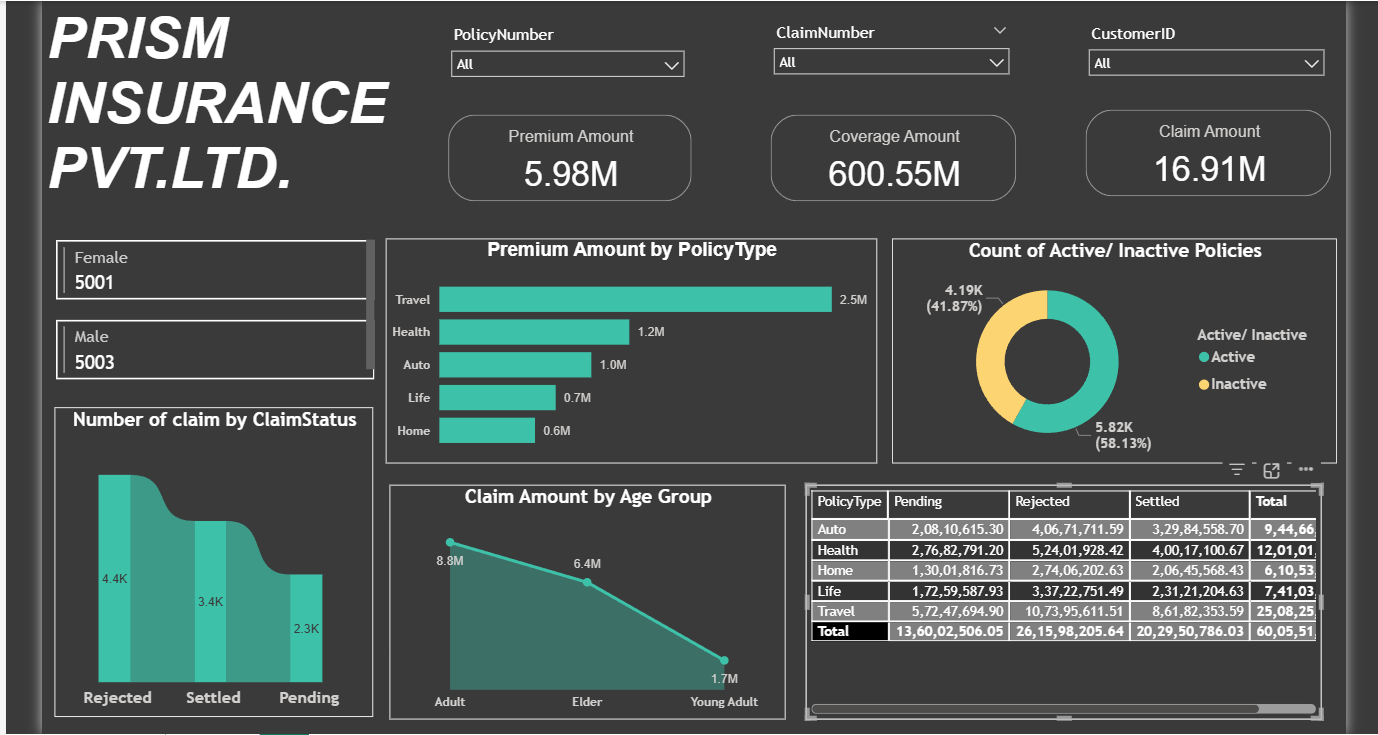

The page's visual inventory and layout, read from the dashboard file:
{"tool":"powerbi","page":{"name":"Page 1","canvas":[1280,720],"ordinal":0},"visuals":[{"type":"slicer","fields":{"Values":["InsuranceData.PolicyNumber"]},"box":[391.4,18.4,249.1,101.8],"z":0},{"type":"slicer","fields":{"Values":["InsuranceData.ClaimNumber"]},"box":[708,16,251.5,103.1],"z":1000},{"type":"slicer","fields":{"Values":["InsuranceData.CustomerID"]},"box":[1017.2,17.2,251.5,103.1],"z":2000},{"type":"textbox","box":[0,0,364.4,272.4],"z":3000},{"type":"cardVisual","fields":{"Data":["Sum(InsuranceData.PremiumAmount)"]},"box":[393.4,106.7,249.1,95.7],"z":4000},{"type":"cardVisual","fields":{"Data":["Sum(InsuranceData.CoverageAmount)"]},"box":[709.9,106.7,251.5,95.7],"z":5000},{"type":"cardVisual","fields":{"Data":["Sum(InsuranceData.ClaimAmount)"]},"box":[1019.1,101.8,251.5,95.7],"z":6000},{"type":"multiRowCard","fields":{"Values":["InsuranceData.Gender","CountNonNull(InsuranceData.Gender)"]},"box":[8.3,229.2,322.7,152.1],"z":7000},{"type":"ribbonChart","title":"Number of claim by ClaimStatus","fields":{"Category":["InsuranceData.ClaimStatus"],"Y":["CountNonNull(InsuranceData.ClaimStatus)"]},"box":[12,398.5,312.9,304.3],"z":8000},{"type":"barChart","title":"Premium Amount by PolicyType","fields":{"Category":["InsuranceData.PolicyType"],"Y":["Sum(InsuranceData.PremiumAmount)"]},"box":[337.4,233.1,482.2,220.9],"z":9000},{"type":"lineChart","title":"Claim Amount by Age Group","fields":{"Category":["InsuranceData.Age Group"],"Y":["Sum(InsuranceData.ClaimAmount)"]},"box":[340.6,475.1,389,230.7],"z":10000},{"type":"donutChart","title":"Count of Active/ Inactive Policies","fields":{"Category":["InsuranceData.Active/ Inactive"],"Y":["CountNonNull(InsuranceData.Active/ Inactive)"]},"box":[834.4,233.1,436.8,220.9],"z":11000},{"type":"pivotTable","fields":{"Values":["Sum(InsuranceData.CoverageAmount)"],"Rows":["InsuranceData.PolicyType"],"Columns":["InsuranceData.ClaimStatus"]},"box":[749.2,475.1,506.8,230.7],"z":12000}]}

Visuals, with their boxes on the page's 1280x720 design canvas (x1, y1, x2, y2). These are canvas units, not pixel positions in the 1378x735 screenshot, which may show the page scaled, cropped or inside an application window:
slicer - InsuranceData.PolicyNumber: Rect(391, 18, 640, 120)
slicer - InsuranceData.ClaimNumber: Rect(708, 16, 960, 119)
slicer - InsuranceData.CustomerID: Rect(1017, 17, 1269, 120)
textbox: Rect(0, 0, 364, 272)
cardVisual - Sum(InsuranceData.PremiumAmount): Rect(393, 107, 642, 202)
cardVisual - Sum(InsuranceData.CoverageAmount): Rect(710, 107, 961, 202)
cardVisual - Sum(InsuranceData.ClaimAmount): Rect(1019, 102, 1271, 198)
multiRowCard - InsuranceData.Gender x CountNonNull(InsuranceData.Gender): Rect(8, 229, 331, 381)
"Number of claim by ClaimStatus" ribbonChart: Rect(12, 398, 325, 703)
"Premium Amount by PolicyType" barChart: Rect(337, 233, 820, 454)
"Claim Amount by Age Group" lineChart: Rect(341, 475, 730, 706)
"Count of Active/ Inactive Policies" donutChart: Rect(834, 233, 1271, 454)
pivotTable - Sum(InsuranceData.CoverageAmount) x InsuranceData.PolicyType: Rect(749, 475, 1256, 706)
